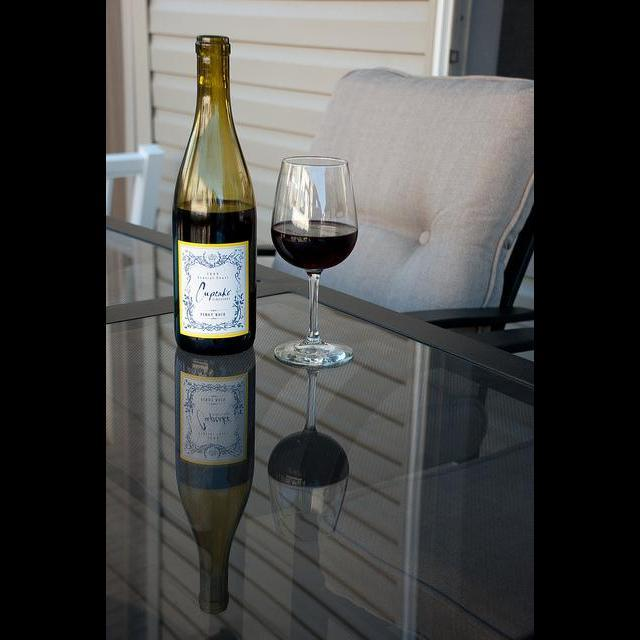bottle: (169, 42, 251, 354)
chair: (254, 68, 534, 356), (106, 143, 166, 229)
dining table: (106, 211, 530, 631)
wine glass: (271, 157, 359, 371)
